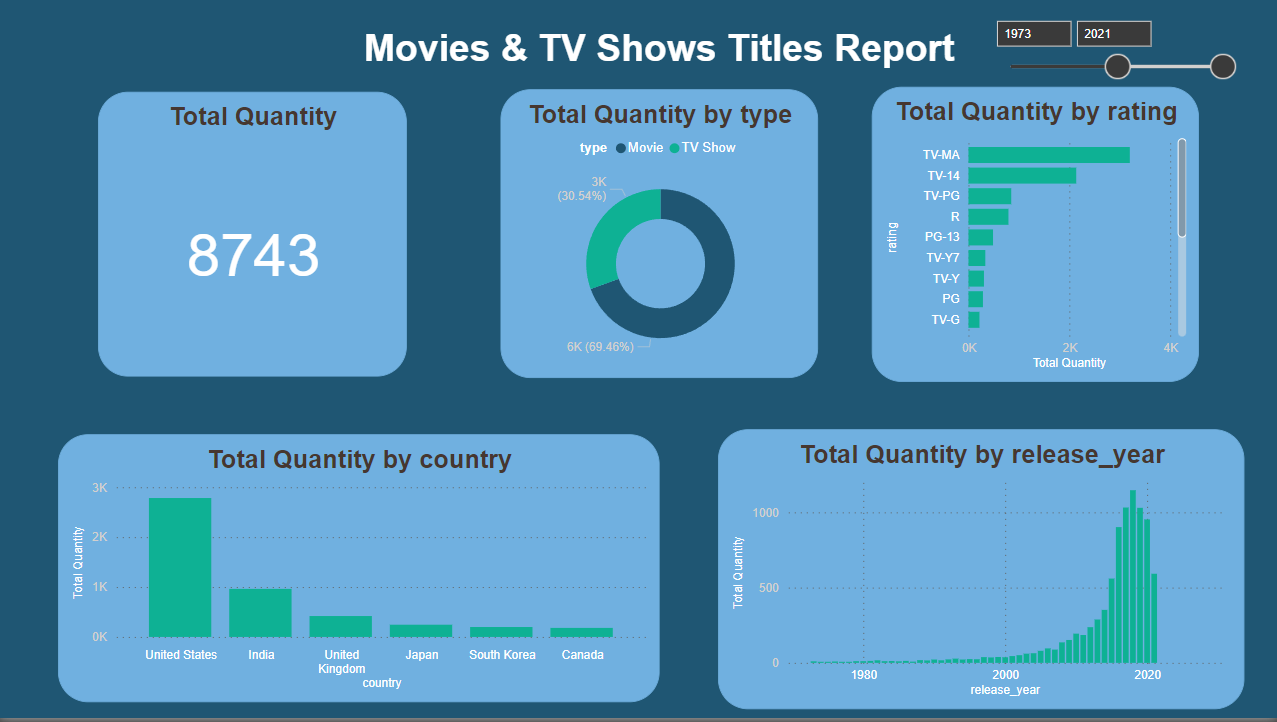

This screenshot's page, from the dashboard's own definition file:
{"tool":"powerbi","page":{"name":"Duplicate of Analisis","canvas":[1280,720],"ordinal":1},"visuals":[{"type":"card","title":"Total Quantity","fields":{"Values":["netflix_titles.Total Quantity"]},"box":[100,93.8,308.8,285],"z":0},{"type":"donutChart","fields":{"Y":["netflix_titles.Total Quantity"],"Category":["netflix_titles.type"]},"box":[502.5,91.2,317.5,288.8],"z":1000},{"type":"clusteredBarChart","fields":{"Y":["netflix_titles.Total Quantity"],"Category":["netflix_titles.rating"]},"box":[873.8,88.8,327.5,295],"z":2000},{"type":"columnChart","fields":{"Y":["netflix_titles.Total Quantity"],"Category":["netflix_titles.country"]},"box":[60,436.7,601.7,268.3],"z":3000},{"type":"columnChart","fields":{"Y":["netflix_titles.Total Quantity"],"Category":["netflix_titles.release_year"]},"box":[720,431.7,526.7,280],"z":4000},{"type":"slicer","fields":{"Values":["netflix_titles.release_year"]},"box":[986.2,12.5,260,93.8],"z":5000},{"type":"textbox","box":[100,22.5,1123.8,65],"z":5001}]}

Visuals, with their boxes in screenshot pixels (x1, y1, x2, y2), scaled from the page's 1280x720 canvas onto the 1277x722 screenshot:
"Total Quantity" card: rect(100, 94, 408, 380)
donutChart - netflix_titles.Total Quantity x netflix_titles.type: rect(501, 91, 818, 381)
clusteredBarChart - netflix_titles.Total Quantity x netflix_titles.rating: rect(872, 89, 1198, 385)
columnChart - netflix_titles.Total Quantity x netflix_titles.country: rect(60, 438, 660, 707)
columnChart - netflix_titles.Total Quantity x netflix_titles.release_year: rect(718, 433, 1244, 714)
slicer - netflix_titles.release_year: rect(984, 13, 1243, 107)
textbox: rect(100, 23, 1221, 88)
